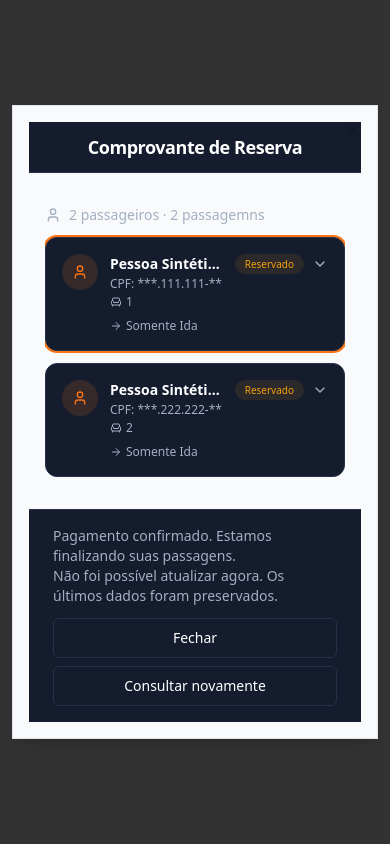
Test: open manual sale receipt › preserves confirmation on lookup failure and permits a simple reload
Expected: the text "Pagamento confirmado. Estamos finalizando suas passagens." is shown, [53,526,272,565]
Expected: the text "Não foi possível atualizar agora" is shown, [53,566,284,605]
Step 1. Click the button "Consultar novamente" → (195, 686), box [53,666,337,706]
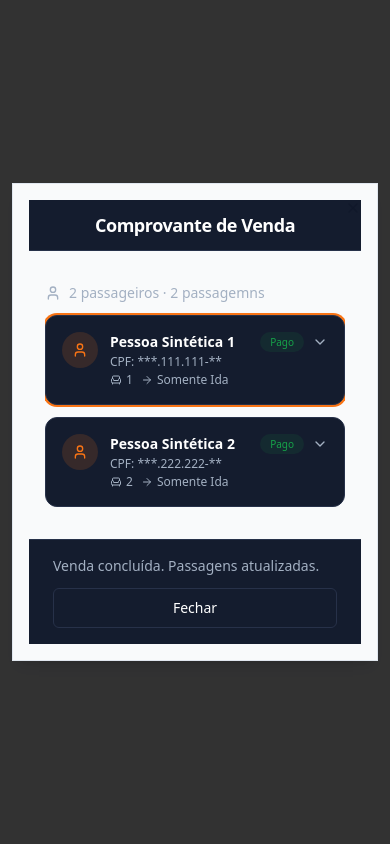
Expected: the heading "Comprovante de Venda" is shown, [95,213,295,237]
